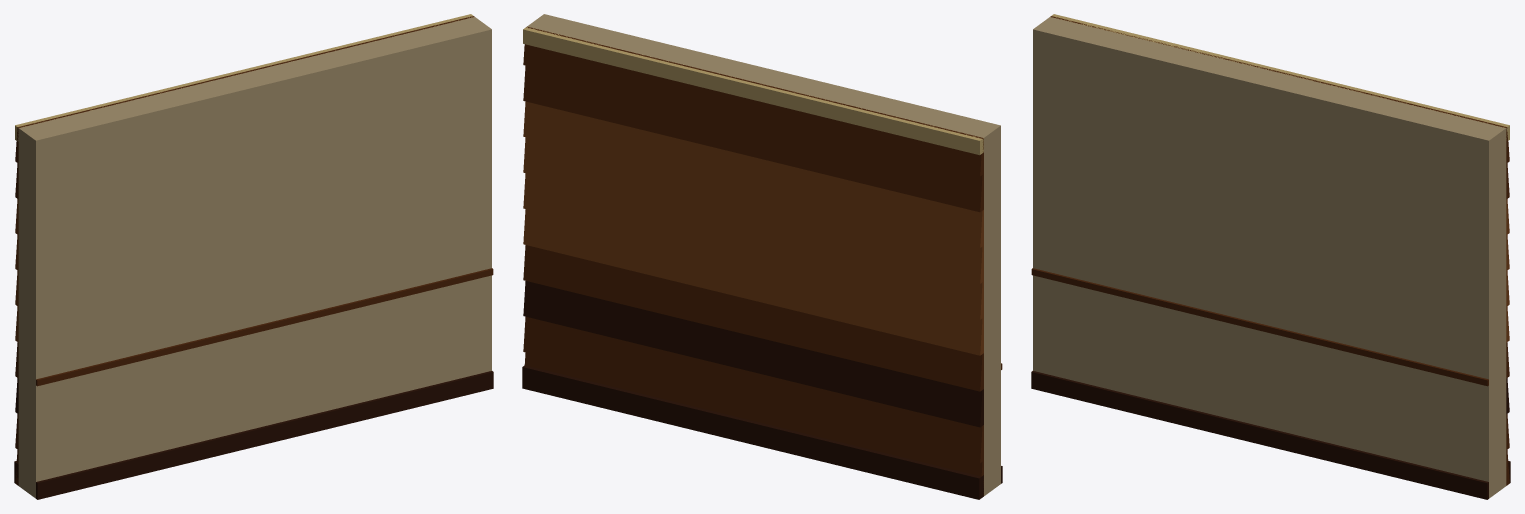
Rendered from SM_Bld_Wall_Solid.glb.
3 renders of one model, left to right at view 1: azimuth 30°, elevation 25°; view 2: azimuth 150°, elevation 25°; view 3: azimuth 330°, elevation 25°, orthographic.
Parts seen in each view (by area): view 1: SM_Bld_Wall_Solid; view 2: SM_Bld_Wall_Solid; view 3: SM_Bld_Wall_Solid.
Boxes of the visible parts, <box> form: SM_Bld_Wall_Solid: <box>14,14,493,499</box>; SM_Bld_Wall_Solid: <box>522,14,1002,499</box>; SM_Bld_Wall_Solid: <box>1031,14,1510,499</box>.
Bounding box in the file's own units: 4 × 3 × 0.355.
1 material, 1 textured.
